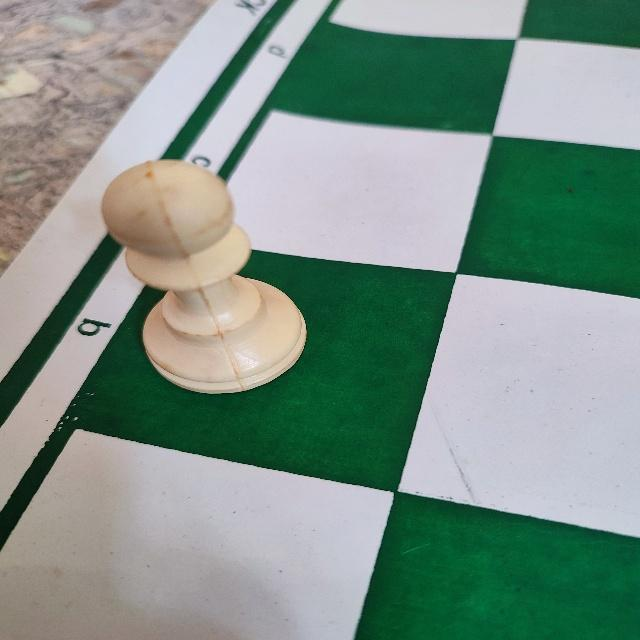Pawn: (97, 156, 312, 399)
